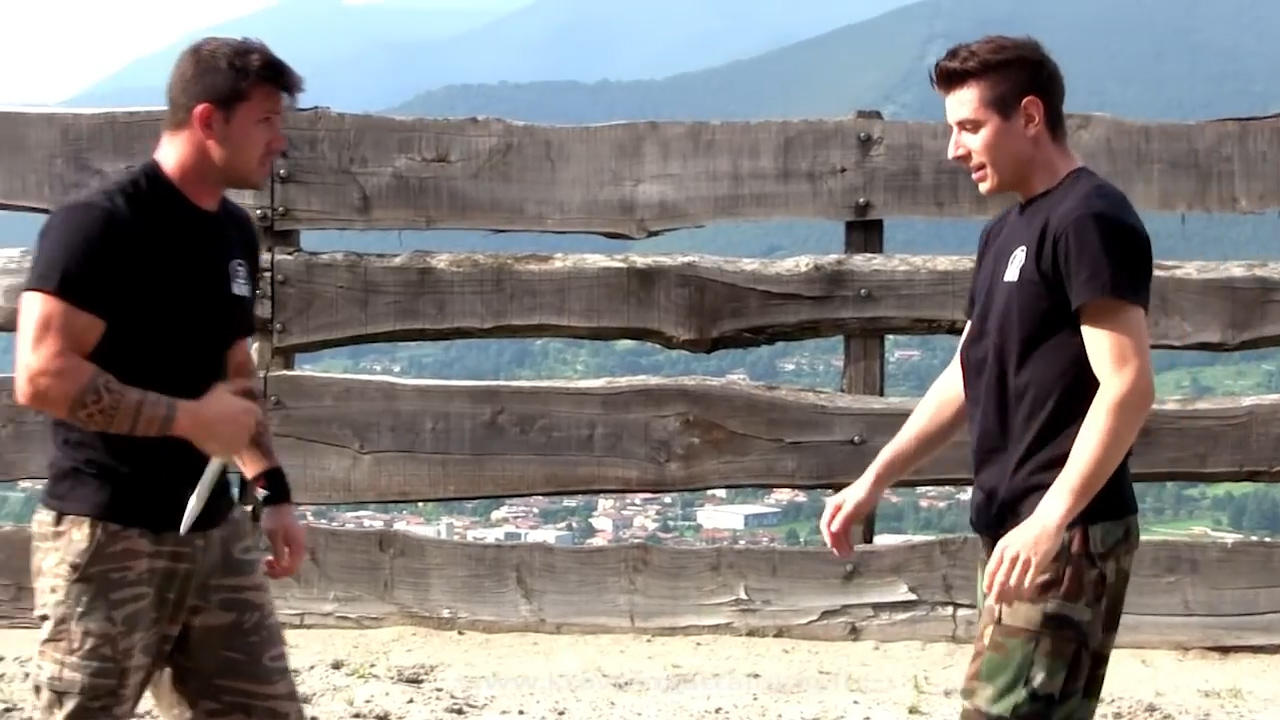knife: (171, 391, 264, 541)
